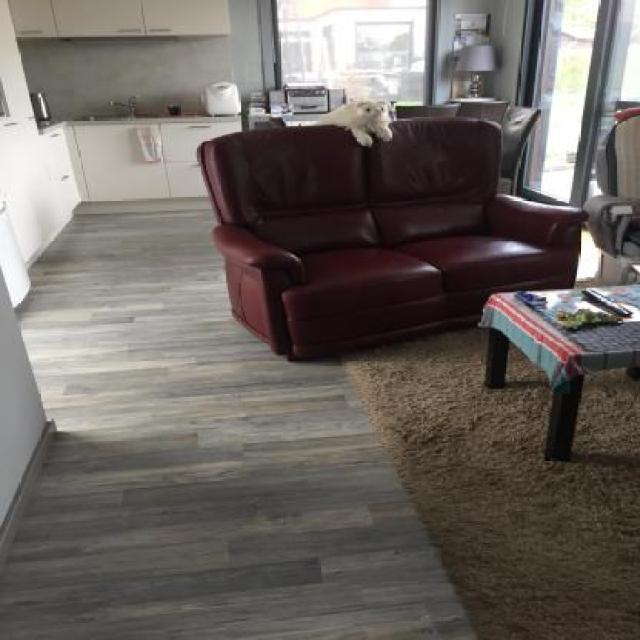floor: (0, 210, 640, 639)
